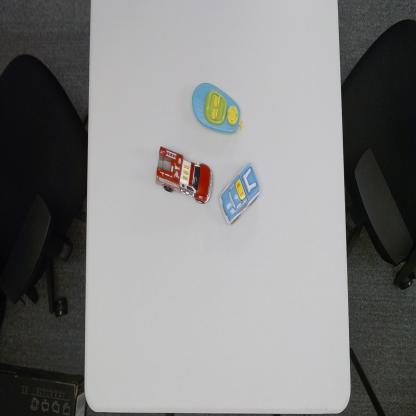Boat: (191, 81, 244, 135)
Car: (218, 160, 262, 228)
Firetruck: (155, 144, 214, 206)
